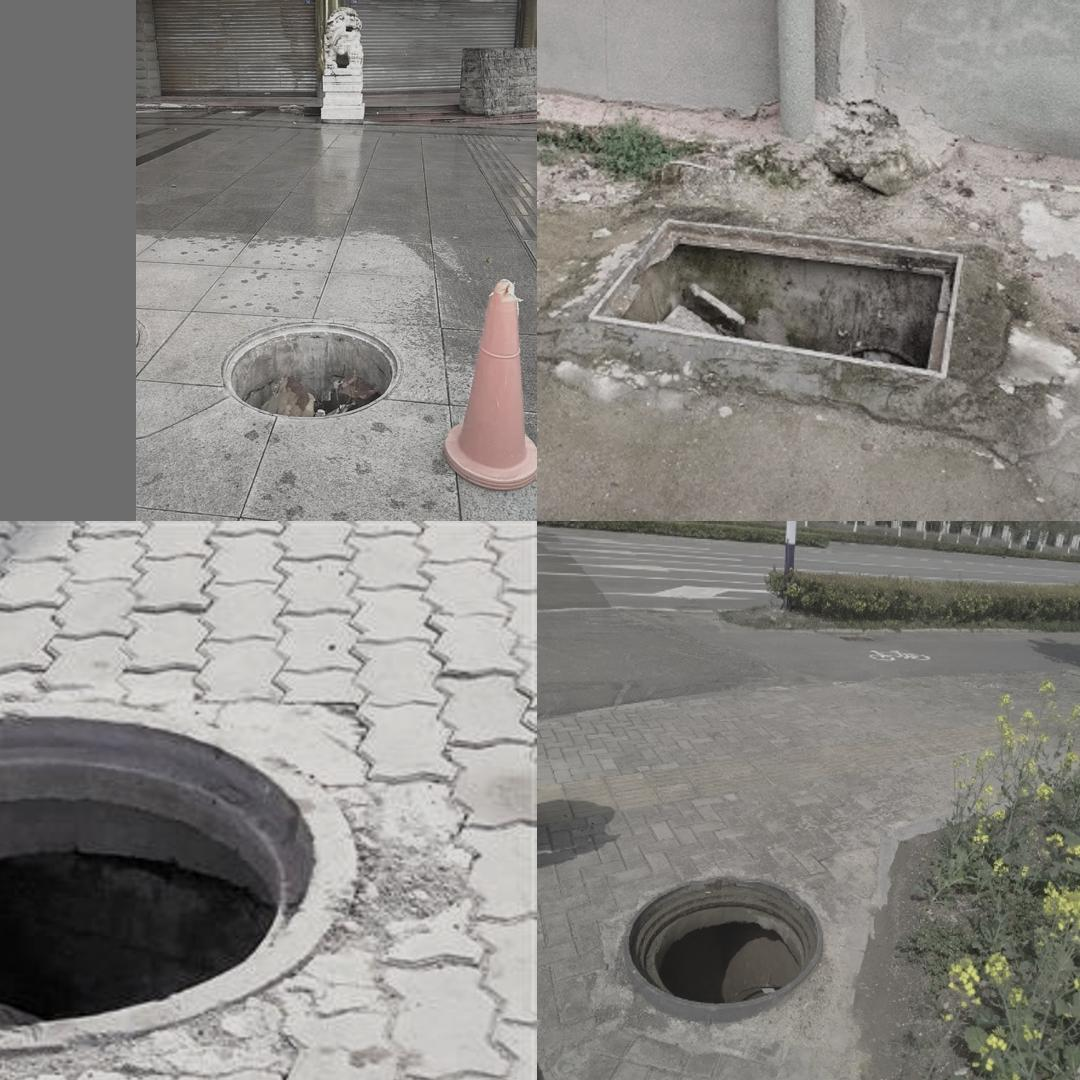lose: (0, 688, 393, 1067), (590, 218, 966, 378), (621, 876, 821, 1024), (210, 315, 405, 429)
